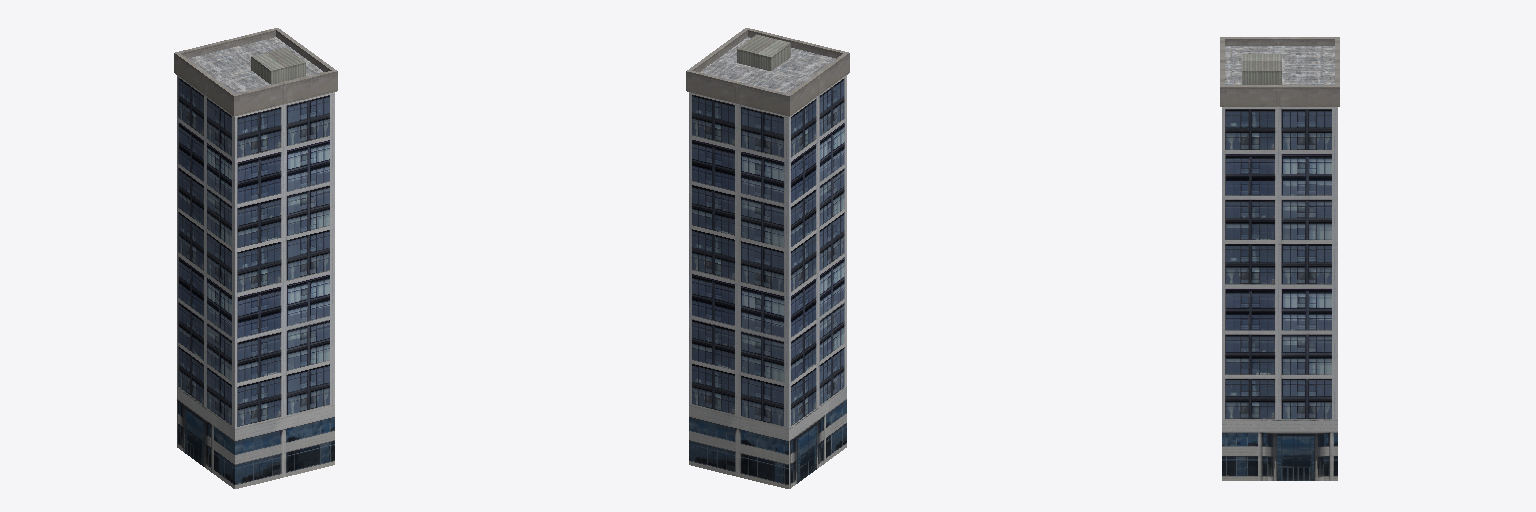
3 views of the same model, side by side, from view 1: azimuth 30°, elevation 25°; view 2: azimuth 150°, elevation 25°; view 3: azimuth 270°, elevation 25° (orthographic).
Parts seen in each view (by area): view 1: building_22; view 2: building_22; view 3: building_22.
Part boxes in pixels (left/top/right/bottom): building_22: left=174, top=28, right=337, bottom=488; building_22: left=686, top=28, right=849, bottom=488; building_22: left=1220, top=37, right=1339, bottom=480.
Bounding box in the file's own units: 52.9 × 195 × 52.88.
1 materials, 1 textured.